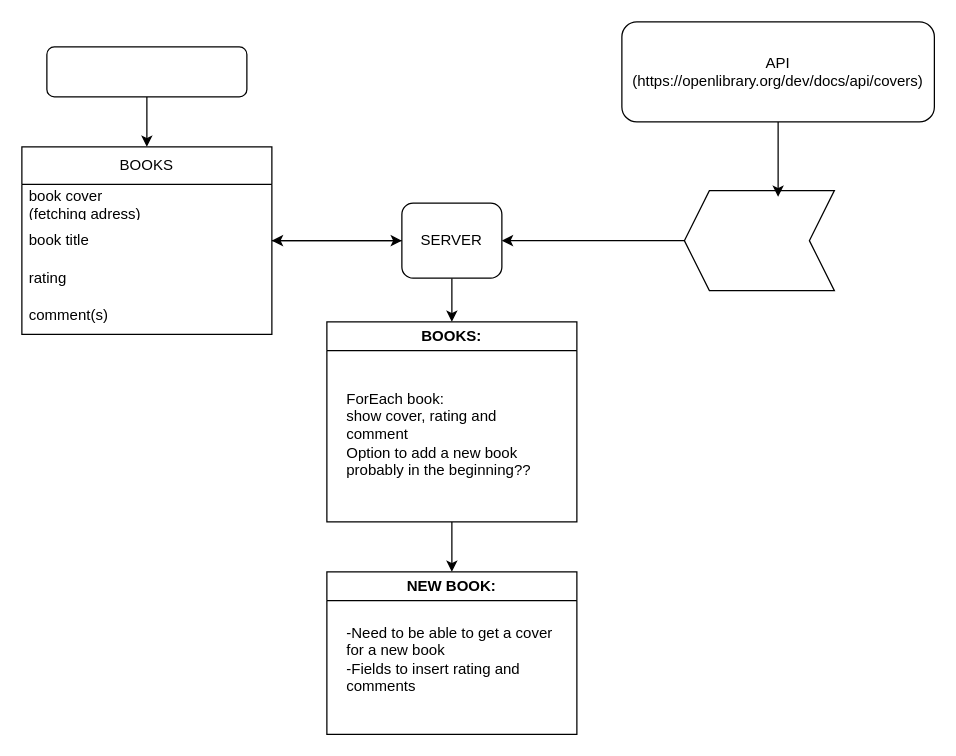
The diagram is 956 pixels wide and 756 high, and some of its shapes have lost their labels. The shapes that lost their labels are listed below. From the top down, each one's centre as x and y in pixels, then its label:
the point at 146,71: DataBase - PostGresql
the point at 758,240: fetch covers
